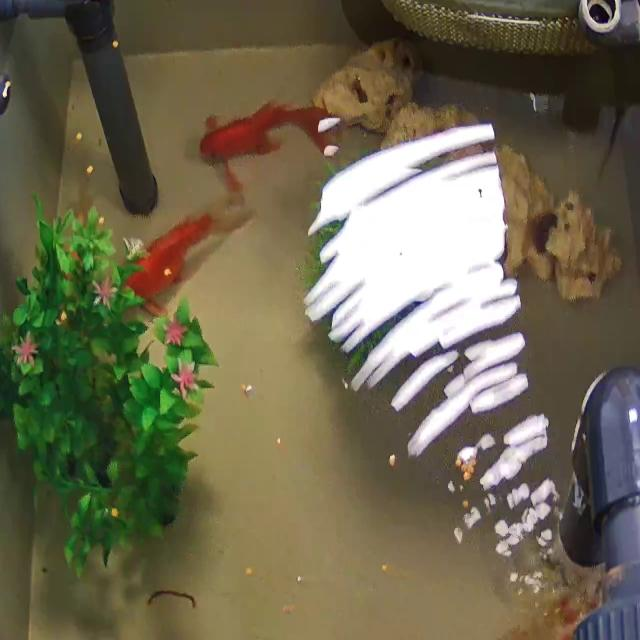fish: (120, 209, 229, 309), (202, 99, 328, 184)
